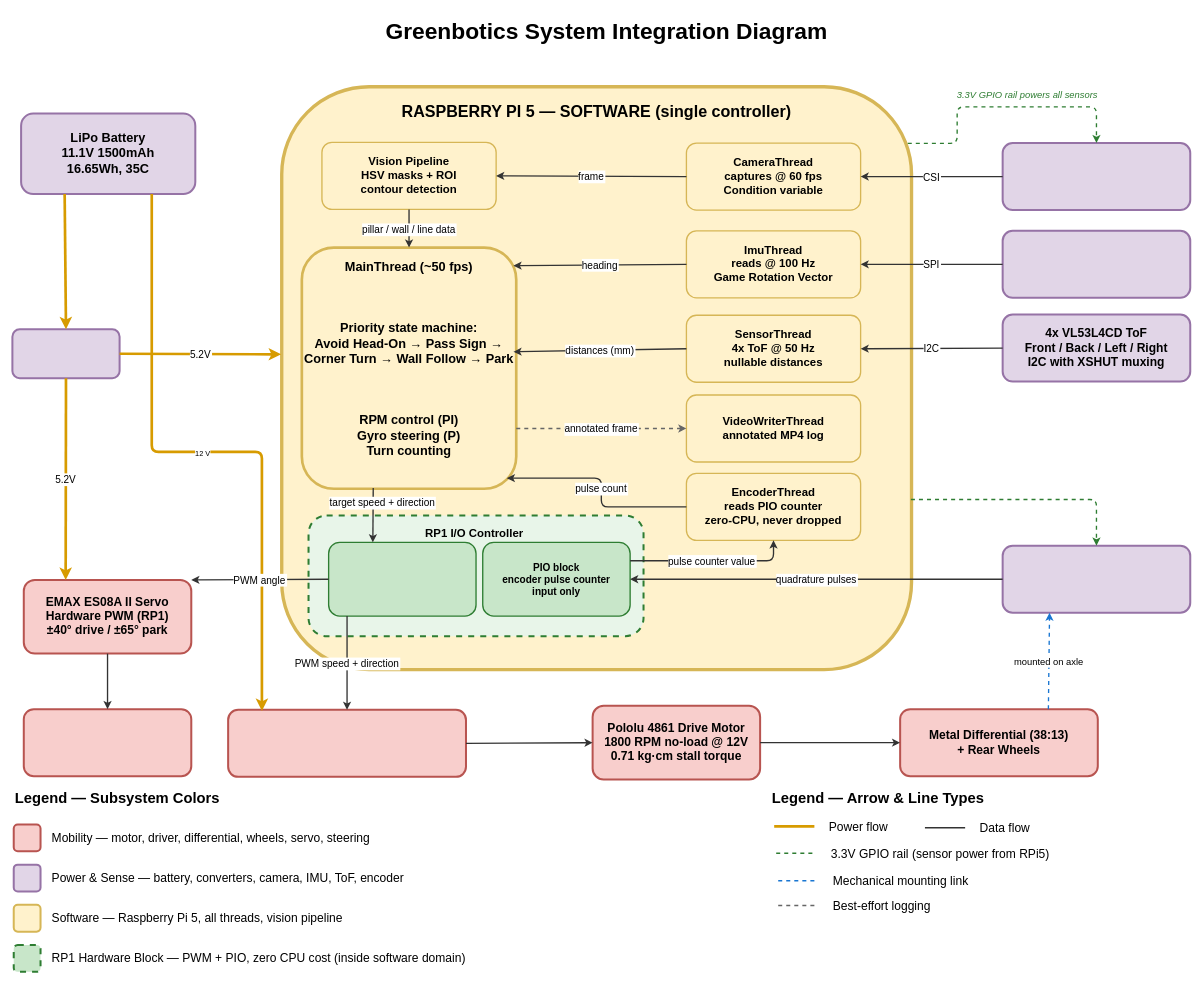
Image size: 1203x984. Some labels were removed from this diagram. The centre of each missing label's shape, as x and y in pixels:
25W Converter 12V → 5.2V (USB): the point at 65,353
Ackermann Steering + Front Wheels: the point at 107,742
BNO086 IMU Heading via SPI Game Rotation Vector: the point at 1096,263
Camera Module 3 Wide 640x360 @ 60fps CSI interface: the point at 1096,176
Hardware PWM block servo angle + motor speed output only: the point at 402,578
TB6612FNG Motor Driver: the point at 347,743
Wheel Encoder Quadrature, mounted on differential axle: the point at 1096,578
